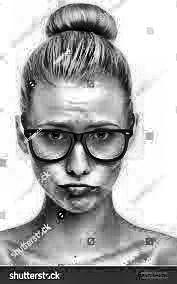sad: (7, 25, 141, 225)
